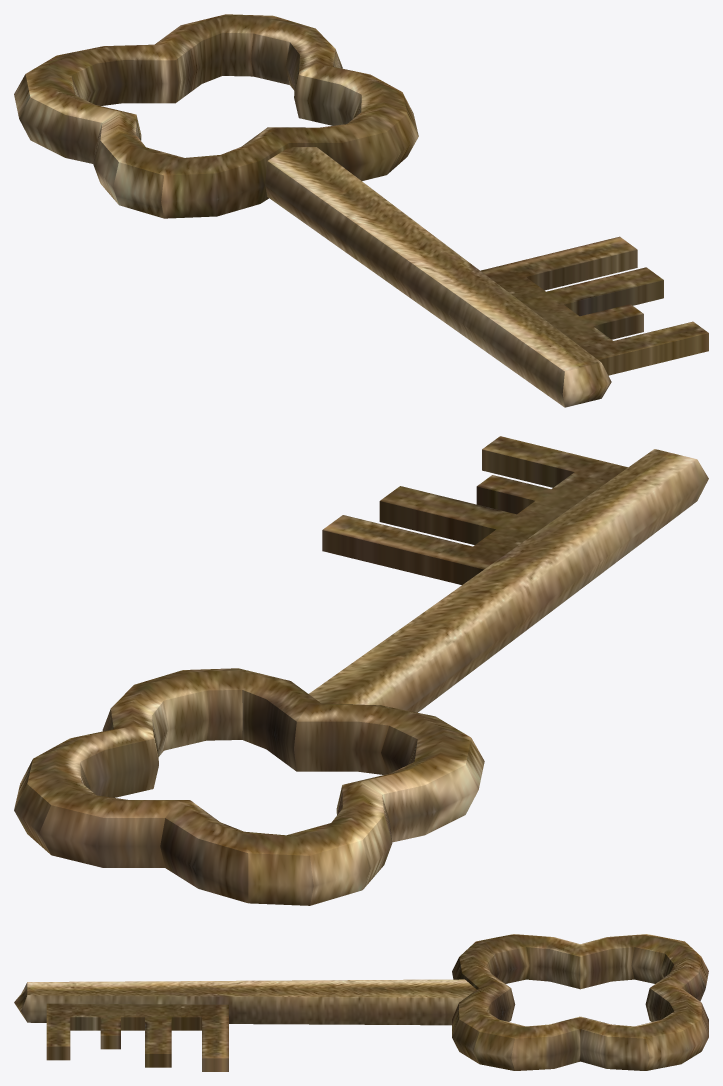
The model's file is key.fbx.
3 renders of one model, top to bottom at view 1: azimuth 30°, elevation 25°; view 2: azimuth 150°, elevation 25°; view 3: azimuth 270°, elevation 25°, orthographic. The views are drawn at different scales.
Visible parts, largest first — view 1: pPlane2; view 2: pPlane2; view 3: pPlane2.
Part boxes in pixels (x1=…): pPlane2: x1=14, y1=14, x2=708, y2=407; pPlane2: x1=14, y1=436, x2=708, y2=905; pPlane2: x1=14, y1=934, x2=708, y2=1071.
Bounding box in the file's own units: 7.78 × 1.33 × 19.38.
1 material, 1 textured.
